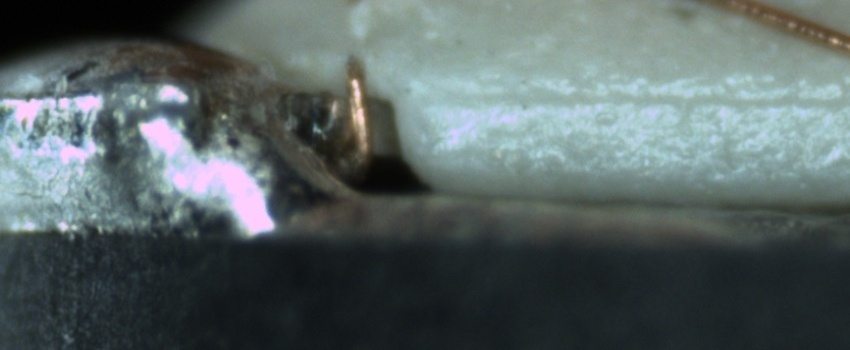DL: (435, 68, 849, 132)
